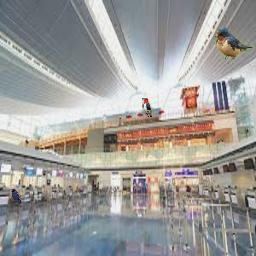Crow: (11, 189, 22, 204)
Swallow: (215, 26, 255, 59)
Woodpecker: (142, 98, 152, 117)
